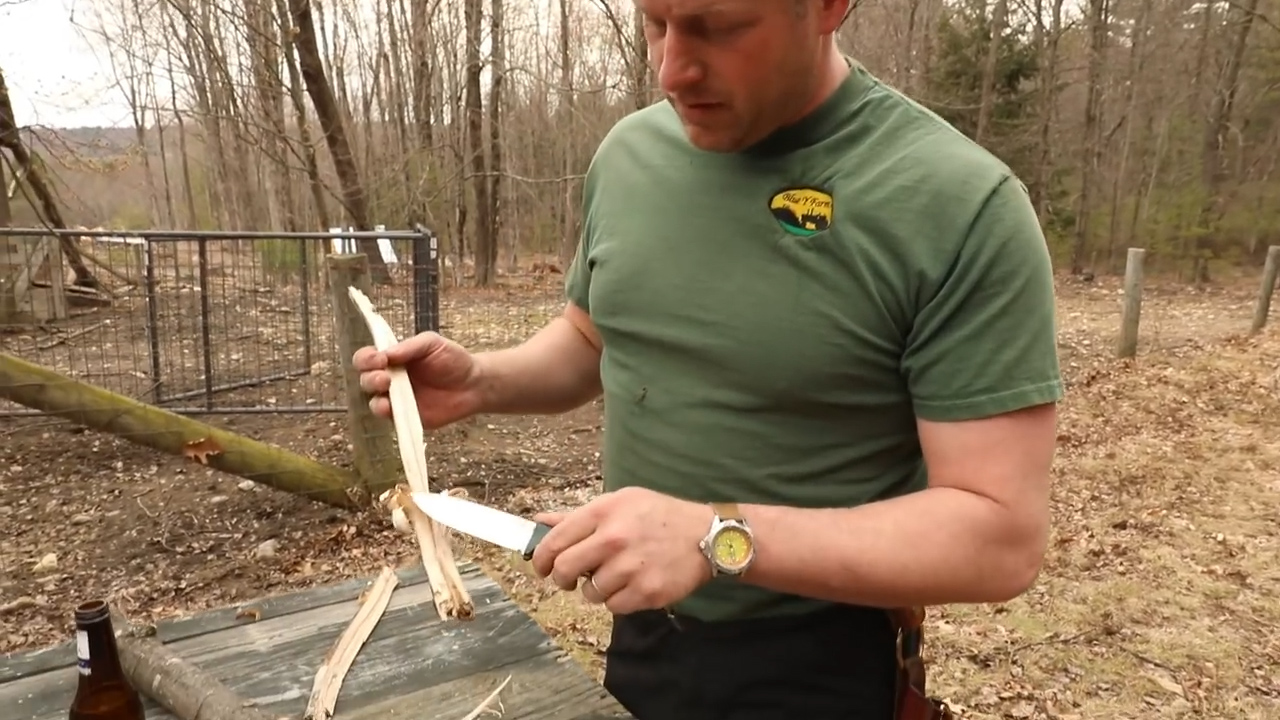knife: (393, 474, 670, 623)
